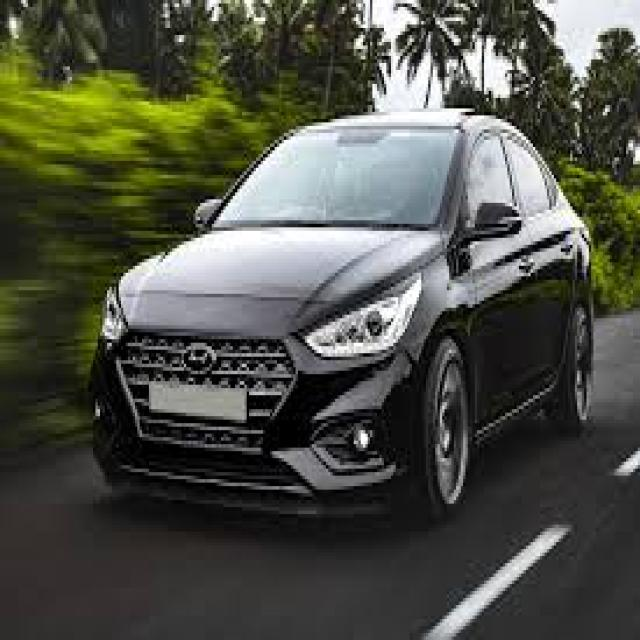car: (87, 108, 595, 513)
